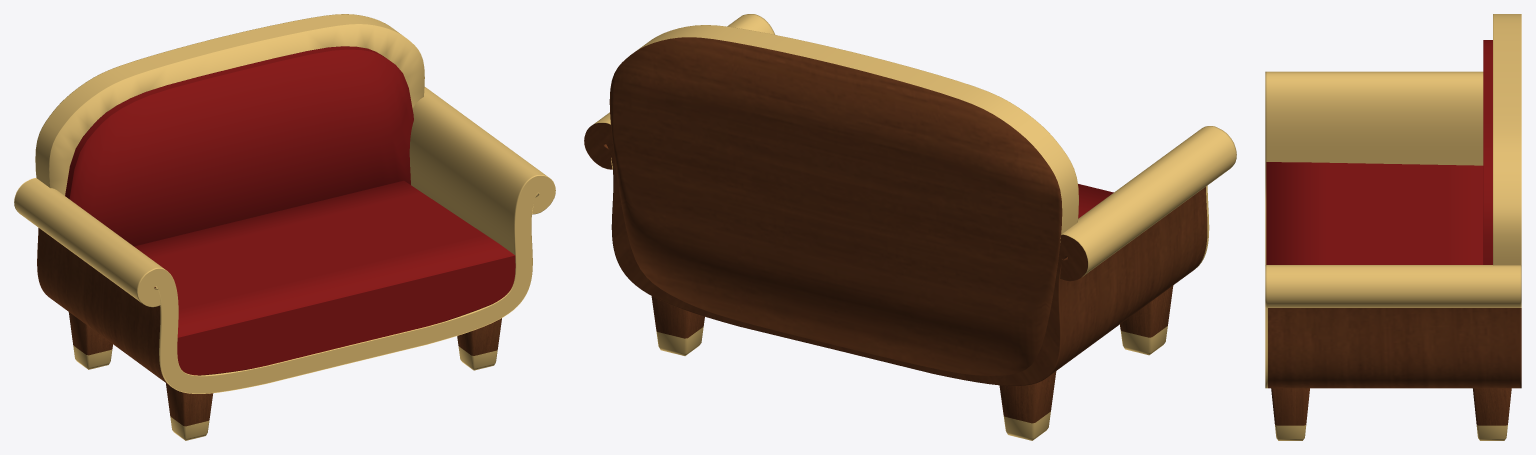
The model's file is Sofa.fbx.
3 views of the same model, side by side, from view 1: azimuth 30°, elevation 25°; view 2: azimuth 150°, elevation 25°; view 3: azimuth 270°, elevation 25° (orthographic). The views are drawn at different scales.
Parts seen in each view (by area): view 1: NurbsPath.007, NurbsPath.006, NurbsPath.004, NurbsPath.005, Cube.003; view 2: NurbsPath.005, NurbsPath.004, Cube.003, NurbsPath.006; view 3: NurbsPath.004, NurbsPath.006, NurbsPath.005, Cube.003, NurbsPath.007.
Part boxes in pixels (left/top/right/bottom): NurbsPath.007: left=65, top=46, right=413, bottom=246; NurbsPath.006: left=134, top=180, right=515, bottom=375; NurbsPath.004: left=14, top=87, right=555, bottom=393; NurbsPath.005: left=35, top=14, right=424, bottom=195; Cube.003: left=68, top=312, right=501, bottom=440; NurbsPath.005: left=609, top=25, right=1078, bottom=375; NurbsPath.004: left=584, top=14, right=1236, bottom=385; Cube.003: left=651, top=285, right=1173, bottom=440; NurbsPath.006: left=1078, top=184, right=1113, bottom=218; NurbsPath.004: left=1265, top=71, right=1521, bottom=388; NurbsPath.006: left=1266, top=162, right=1483, bottom=264; NurbsPath.005: left=1493, top=14, right=1521, bottom=265; Cube.003: left=1271, top=388, right=1511, bottom=440; NurbsPath.007: left=1483, top=40, right=1492, bottom=264.
Bounding box in the file's own units: 348 × 224 × 178.
